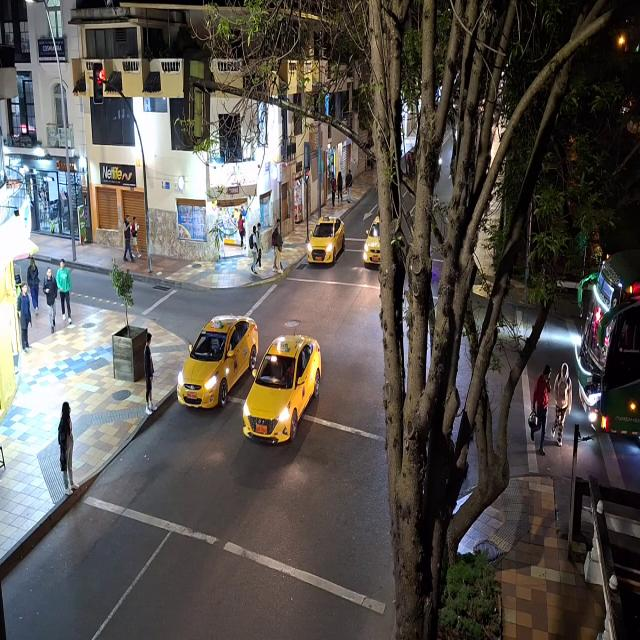BUS: (577, 253, 640, 437)
SED: (244, 336, 319, 438), (179, 315, 255, 407), (309, 218, 343, 264), (366, 215, 385, 269)
